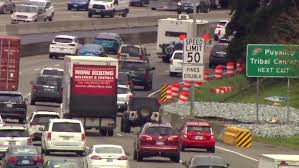speedLimit50: (182, 35, 204, 65)
